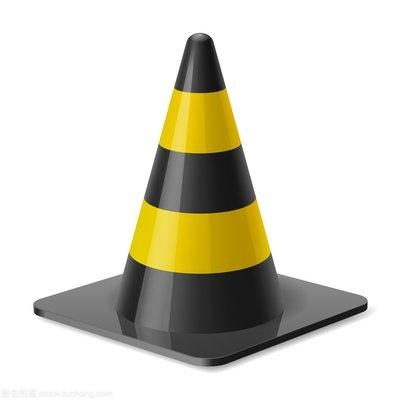cone_barrel: (98, 32, 294, 349)
